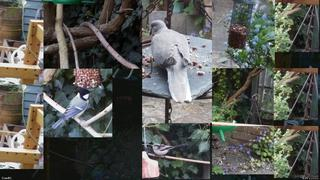collared dove: (149, 20, 192, 103)
great tit: (52, 89, 92, 130)
long tailed tit: (151, 143, 190, 158)
